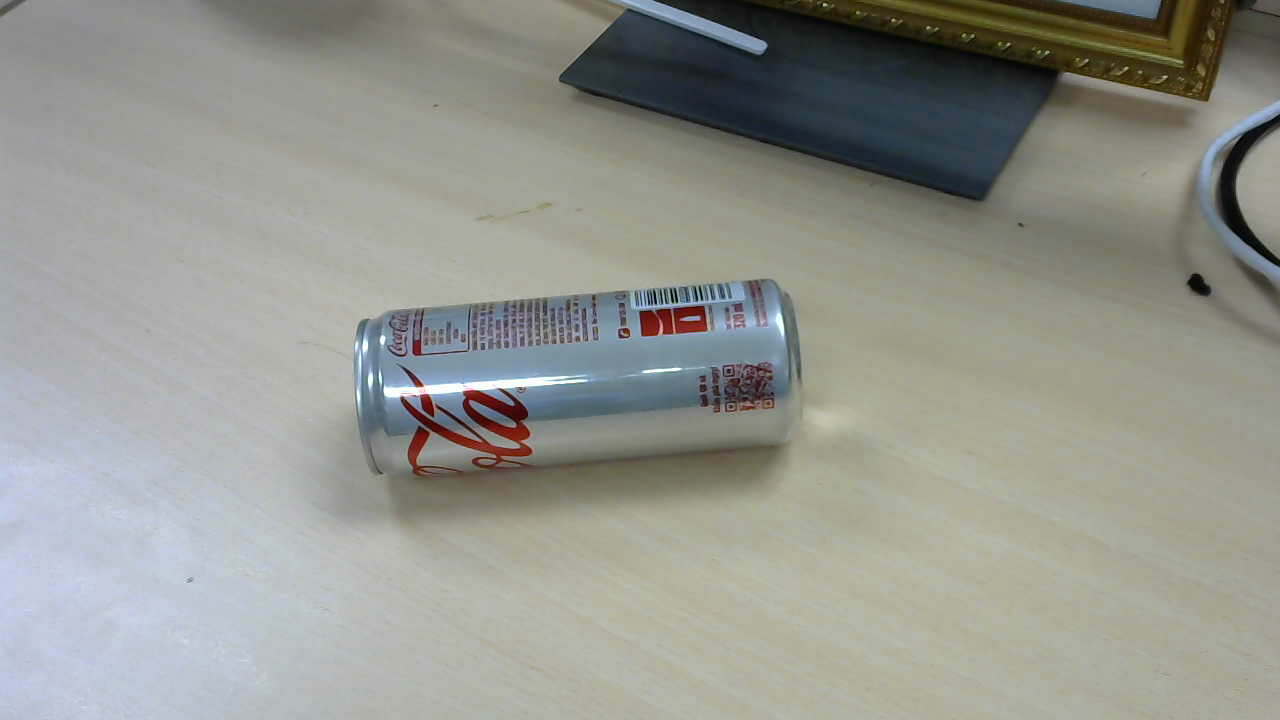Coca_Cola: (360, 282, 810, 484)
